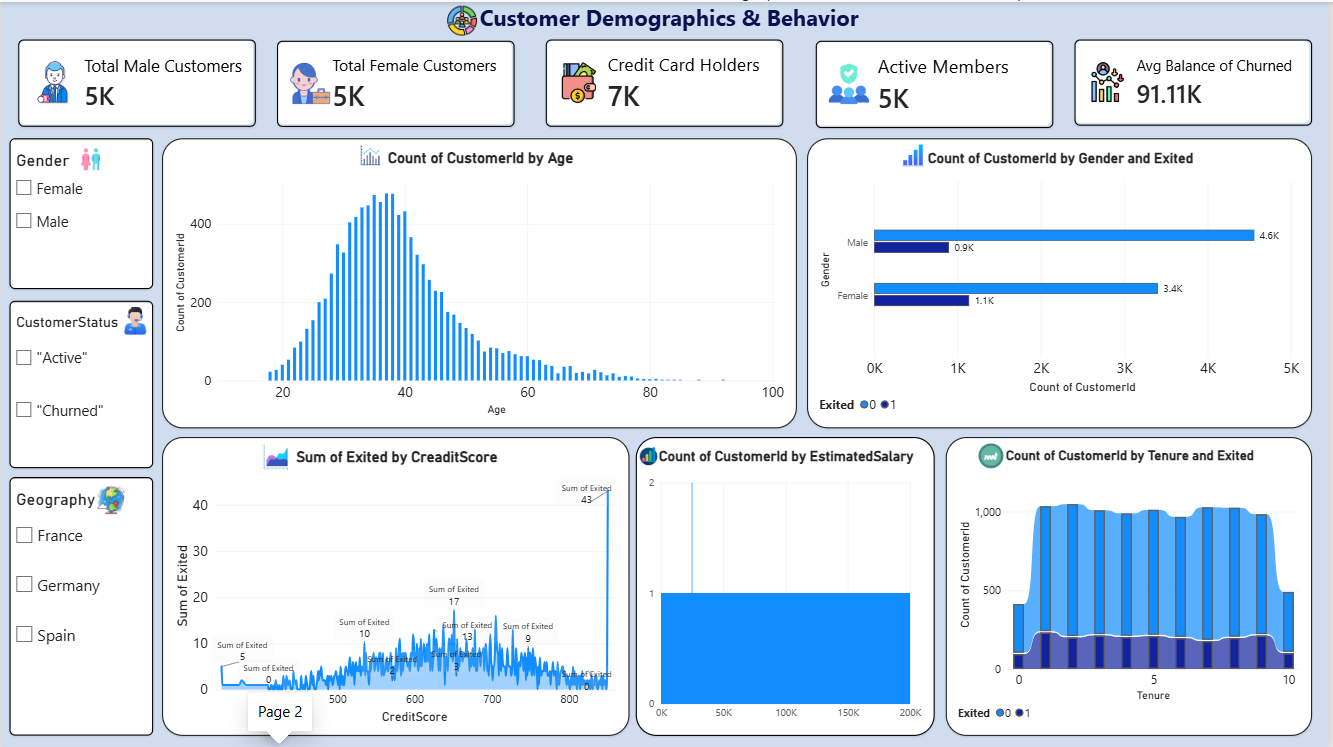

The dashboard page shown, as its layout file describes it:
{"tool":"powerbi","page":{"name":"Page 2","canvas":[1920,1080],"ordinal":1},"visuals":[{"type":"textbox","box":[10,0,1910,55],"z":0},{"type":"cardVisual","fields":{"Data":["Sum(Churn_Modelling.IsActiveMember)"]},"box":[1178.1,56.1,352.9,123.1],"z":1000},{"type":"cardVisual","fields":{"Data":["Sum(Churn_Modelling.HasCrCard)"]},"box":[787.2,54.3,378.2,126.7],"z":2000},{"type":"cardVisual","title":"Total Male Customers","fields":{"Data":["Churn_Modelling.Total Male Customers"]},"box":[10.9,54.3,356.5,126.7],"z":3000},{"type":"cardVisual","fields":{"Data":["Churn_Modelling.Total Female Customers"]},"box":[380,56.1,394.5,124.9],"z":4000},{"type":"cardVisual","fields":{"Data":["Churn_Modelling.Avg Balance of Churned"]},"box":[1552.7,54.3,367.4,124.9],"z":5000},{"type":"clusteredBarChart","title":"Count of CustomerId by Gender and Exited","fields":{"Category":["Churn_Modelling.Gender"],"Y":["CountNonNull(Churn_Modelling.CustomerId)"],"Series":["Churn_Modelling.Exited"]},"box":[1165.4,197.3,731.1,419.8],"z":6000},{"type":"clusteredColumnChart","title":"Count of CustomerId by Age","fields":{"Category":["Churn_Modelling.Age"],"Y":["CountNonNull(Churn_Modelling.CustomerId)"]},"box":[231.6,197.3,919.3,419.8],"z":7000},{"type":"areaChart","title":"Sum of Exited by CreaditScore","fields":{"Category":["Churn_Modelling.CreditScore"],"Y":["Sum(Churn_Modelling.Exited)"]},"box":[231.6,629.8,676.8,432.5],"z":8000},{"type":"ribbonChart","title":"Count of CustomerId by Tenure and Exited","fields":{"Category":["Churn_Modelling.Tenure"],"Y":["CountNonNull(Churn_Modelling.CustomerId)"],"Series":["Churn_Modelling.Exited"]},"box":[1366.3,629.8,530.2,432.5],"z":9000},{"type":"slicer","fields":{"Values":["Churn_Modelling.Gender"]},"box":[10.9,197.3,208,218],"z":10000},{"type":"slicer","fields":{"Values":["Churn_Modelling.CustomerStatus"]},"box":[10.9,432.5,208,242],"z":11000},{"type":"slicer","fields":{"Values":["Churn_Modelling.Geography"]},"box":[10.9,687.7,208,374],"z":12000},{"type":"clusteredColumnChart","title":"Count of CustomerId by EstimatedSalary","fields":{"Y":["CountNonNull(Churn_Modelling.CustomerId)"],"Category":["Churn_Modelling.EstimatedSalary"]},"box":[917.5,629.8,432.5,432.5],"z":13000},{"type":"image","box":[98,212,60,32],"z":14000},{"type":"image","box":[166,442,52,40],"z":15000},{"type":"image","box":[135,700,45,41.2],"z":16000},{"type":"image","box":[508.3,205.8,50,30],"z":17000},{"type":"image","box":[1288.9,205.6,61.1,32.2],"z":18000},{"type":"image","box":[348.6,640,92.9,37.1],"z":19000},{"type":"image","box":[922.9,636.4,26.4,40.7],"z":20000},{"type":"image","box":[1414,637,37,40],"z":21000},{"type":"image","box":[577.3,5.4,80,43.3],"z":22000}]}

Visuals, with their boxes in screenshot pixels (x1, y1, x2, y2), scaled from the page's 1920x1080 canvas onto the 1333x747 screenshot:
textbox: Rect(7, 0, 1332, 38)
cardVisual - Sum(Churn_Modelling.IsActiveMember): Rect(818, 39, 1063, 124)
cardVisual - Sum(Churn_Modelling.HasCrCard): Rect(547, 38, 809, 125)
"Total Male Customers" cardVisual: Rect(8, 38, 255, 125)
cardVisual - Churn_Modelling.Total Female Customers: Rect(264, 39, 538, 125)
cardVisual - Churn_Modelling.Avg Balance of Churned: Rect(1078, 38, 1332, 124)
"Count of CustomerId by Gender and Exited" clusteredBarChart: Rect(809, 136, 1317, 427)
"Count of CustomerId by Age" clusteredColumnChart: Rect(161, 136, 799, 427)
"Sum of Exited by CreaditScore" areaChart: Rect(161, 436, 631, 735)
"Count of CustomerId by Tenure and Exited" ribbonChart: Rect(949, 436, 1317, 735)
slicer - Churn_Modelling.Gender: Rect(8, 136, 152, 287)
slicer - Churn_Modelling.CustomerStatus: Rect(8, 299, 152, 467)
slicer - Churn_Modelling.Geography: Rect(8, 476, 152, 734)
"Count of CustomerId by EstimatedSalary" clusteredColumnChart: Rect(637, 436, 937, 735)
image: Rect(68, 147, 110, 169)
image: Rect(115, 306, 151, 333)
image: Rect(94, 484, 125, 513)
image: Rect(353, 142, 388, 163)
image: Rect(895, 142, 937, 164)
image: Rect(242, 443, 307, 468)
image: Rect(641, 440, 659, 468)
image: Rect(982, 441, 1007, 468)
image: Rect(401, 4, 456, 34)
